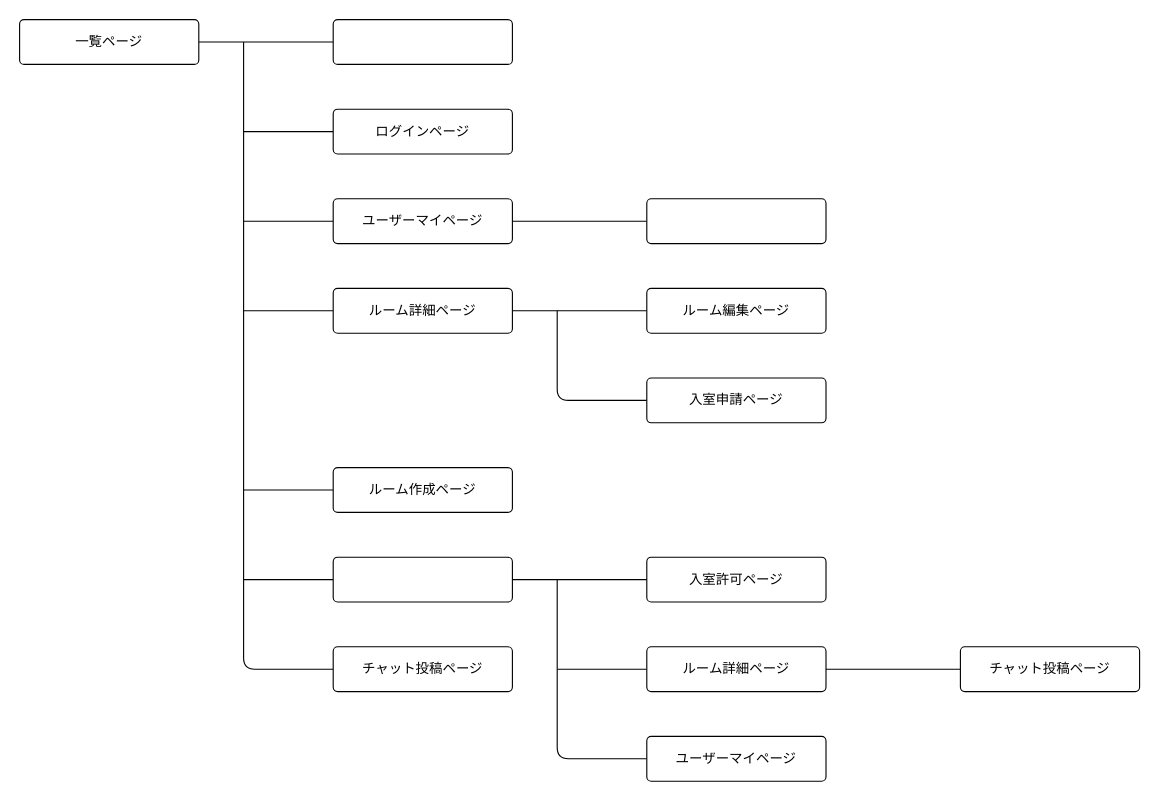
Image size: 1159x801. Some labels were removed from this diagram. The shapes that lost their labels are listed below. From the top down, each one's box as (x1, y1, x2, y2) in pixels, then its label:
(332, 18, 512, 64): 新規登録ページ
(646, 198, 826, 244): マイページ編集ページ
(332, 556, 512, 602): 通知一覧ページ
